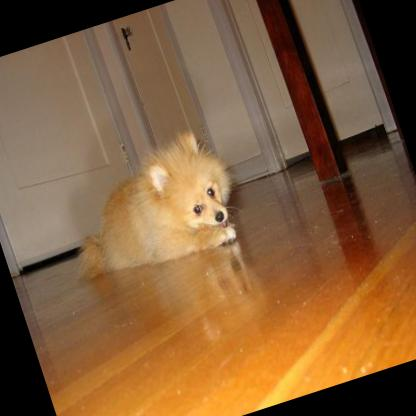Pomeranian: (45, 120, 247, 289)
